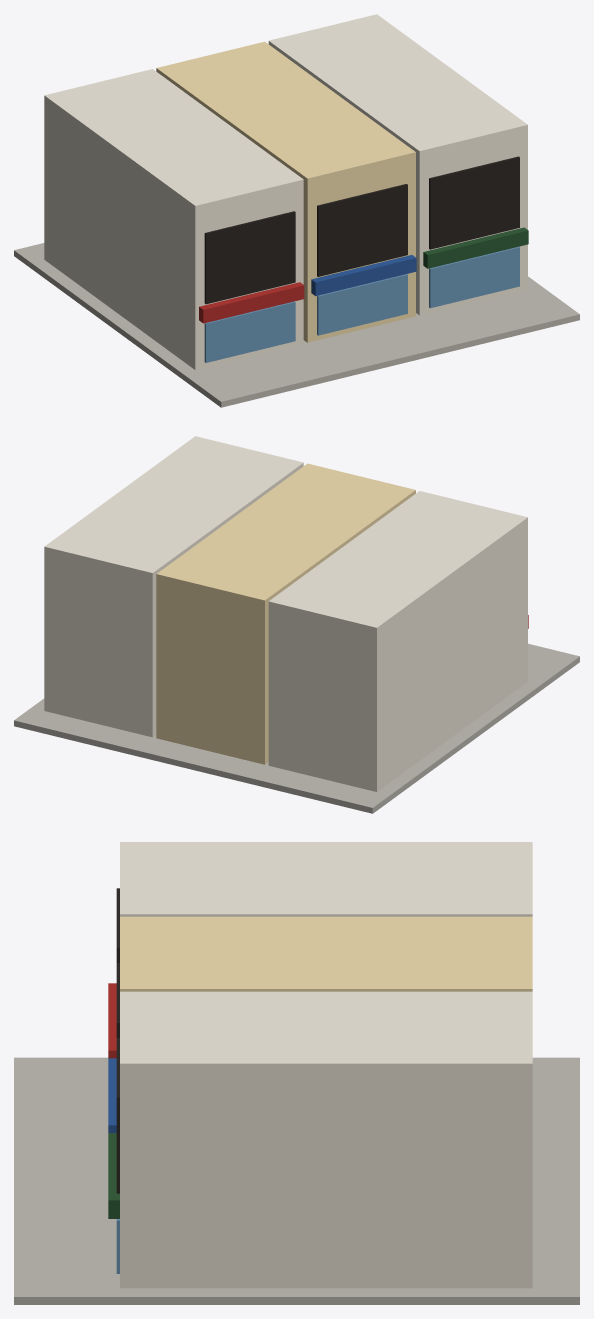
Rendered from zone_C_d2_e3.glb.
The picture shows the model from 3 angles, top to bottom: view 1: azimuth 30°, elevation 25°; view 2: azimuth 150°, elevation 25°; view 3: azimuth 270°, elevation 25°; orthographic projection. The views are drawn at different scales.
Visible parts, largest first — view 1: zone_C_d2_e3; view 2: zone_C_d2_e3; view 3: zone_C_d2_e3.
Boxes of the visible parts, x1,y1,x2,y2 form: zone_C_d2_e3: (14,14,579,407); zone_C_d2_e3: (14,436,579,813); zone_C_d2_e3: (14,842,579,1304).
Size of the model in its own units: 0.96 by 0.435 by 0.96.
